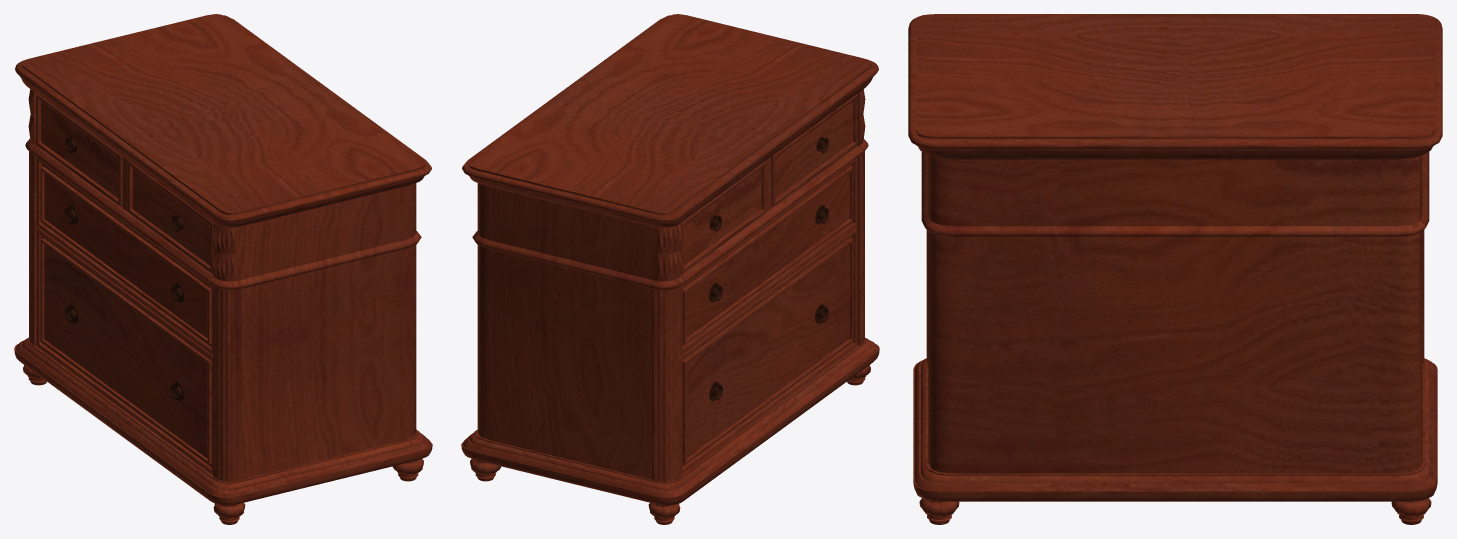
Rendered from desk_01.FBX.
3 views of the same model, side by side, from view 1: azimuth 30°, elevation 25°; view 2: azimuth 150°, elevation 25°; view 3: azimuth 270°, elevation 25° (orthographic). The views are drawn at different scales.
Visible parts, largest first — view 1: desk_01; view 2: desk_01; view 3: desk_01.
Boxes of the visible parts, bbox=[...] form: desk_01: bbox=[14, 14, 432, 524]; desk_01: bbox=[461, 14, 879, 524]; desk_01: bbox=[908, 14, 1442, 524].
Size of the model in its own units: 2.26 by 3.11 by 3.85.
Materials: 2 (1 with a texture image).
